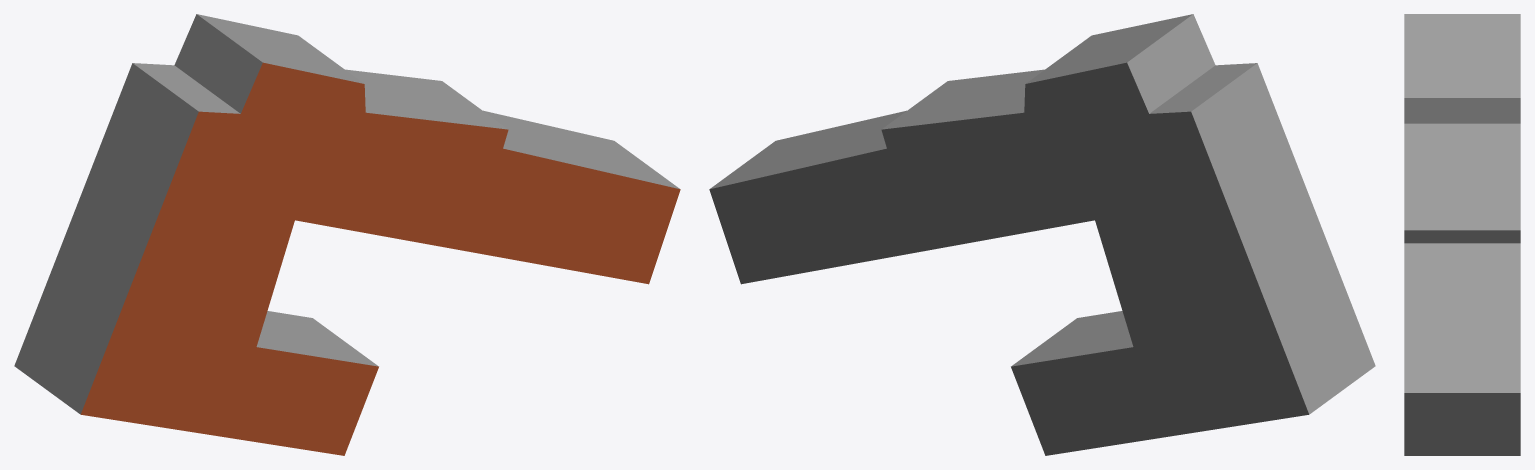
Rendered from construction_4535_assumed_A_Casa_h6m.obj.
3 views of the same model, side by side, from view 1: azimuth 30°, elevation 25°; view 2: azimuth 150°, elevation 25°; view 3: azimuth 270°, elevation 25° (orthographic). The views are drawn at different scales.
Parts seen in each view (by area): view 1: construction_4535_assumed_A_Casa; view 2: construction_4535_assumed_A_Casa; view 3: construction_4535_assumed_A_Casa.
Part boxes in pixels (x1,y1,x2,y2): construction_4535_assumed_A_Casa: [14, 14, 680, 455]; construction_4535_assumed_A_Casa: [709, 14, 1375, 455]; construction_4535_assumed_A_Casa: [1404, 14, 1520, 455].
Bounding box in the file's own units: 31.31 × 20.6 × 6.
